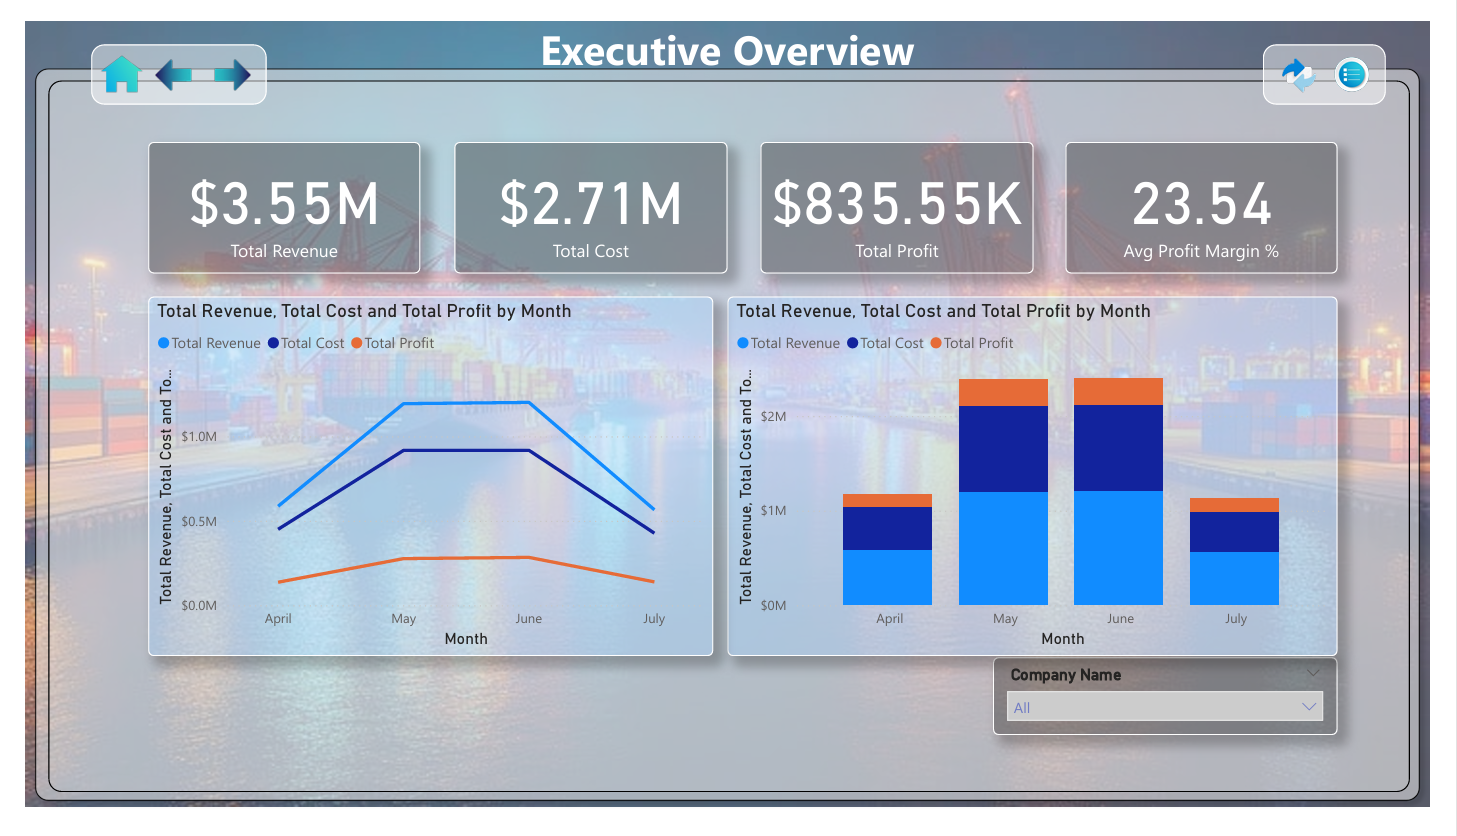

What the dashboard file says about the page in this screenshot:
{"tool":"powerbi","page":{"name":"Executive Overview","canvas":[1280,720],"ordinal":1},"visuals":[{"type":"shape","box":[0,34.2,1280.3,686],"z":0},{"type":"shape","box":[20.8,53.8,1241.2,649.3],"z":1000},{"type":"card","fields":{"Values":["Shipping_Data.Total Revenue"]},"box":[112.3,110.2,248.1,119.8],"z":2000},{"type":"card","fields":{"Values":["Shipping_Data.Total Cost"]},"box":[390.5,110.2,249.4,119.8],"z":3000},{"type":"card","fields":{"Values":["Shipping_Data.Total Profit"]},"box":[670.4,110.2,248.1,119.8],"z":4000},{"type":"card","fields":{"Values":["Shipping_Data.Avg Profit Margin %"]},"box":[948.1,110.2,248.1,119.8],"z":5000},{"type":"slicer","fields":{"Values":["Shipping_Data.Company Name"]},"box":[881.7,580.2,314.3,70.9],"z":6000},{"type":"columnChart","fields":{"Category":["Shipping_Data.Arrival Date.Variation.Date Hierarchy.Month"],"Y":["Shipping_Data.Total Revenue","Shipping_Data.Total Cost","Shipping_Data.Total Profit"]},"box":[639.5,251.3,556.4,327.7],"z":7000},{"type":"lineChart","fields":{"Category":["Shipping_Data.Arrival Date.Variation.Date Hierarchy.Month"],"Y":["Shipping_Data.Total Revenue","Shipping_Data.Total Cost","Shipping_Data.Total Profit"]},"box":[112.3,250.9,514.8,328.4],"z":8000},{"type":"shape","box":[1127.5,20.8,112.5,55],"z":9000},{"type":"image","box":[1127.5,22,67.3,53.8],"z":10000},{"type":"shape","box":[59.9,20.8,160.2,55],"z":11000},{"type":"image","box":[51.4,20.8,72.1,53.8],"z":12000},{"type":"image","box":[157.7,26.9,62.4,44],"z":13000},{"type":"image","box":[103.9,26.9,62.4,44],"z":14000},{"type":"image","box":[1184.2,26.7,48.3,49.2],"z":15000},{"type":"textbox","box":[407.2,0,464.7,74.6],"z":16000}]}

Visuals, with their boxes in screenshot pixels (x1, y1, x2, y2), scaled from the page's 1280x720 canvas onto the 1457x836 screenshot:
shape: [x1=0, y1=40, x2=1456, y2=835]
shape: [x1=24, y1=62, x2=1437, y2=816]
card - Shipping_Data.Total Revenue: [x1=128, y1=128, x2=410, y2=267]
card - Shipping_Data.Total Cost: [x1=444, y1=128, x2=728, y2=267]
card - Shipping_Data.Total Profit: [x1=763, y1=128, x2=1046, y2=267]
card - Shipping_Data.Avg Profit Margin %: [x1=1079, y1=128, x2=1362, y2=267]
slicer - Shipping_Data.Company Name: [x1=1004, y1=674, x2=1361, y2=756]
columnChart - Shipping_Data.Arrival Date.Variation.Date Hierarchy.Month x Shipping_Data.Total Revenue: [x1=728, y1=292, x2=1361, y2=672]
lineChart - Shipping_Data.Arrival Date.Variation.Date Hierarchy.Month x Shipping_Data.Total Revenue: [x1=128, y1=291, x2=714, y2=673]
shape: [x1=1283, y1=24, x2=1411, y2=88]
image: [x1=1283, y1=26, x2=1360, y2=88]
shape: [x1=68, y1=24, x2=251, y2=88]
image: [x1=59, y1=24, x2=141, y2=87]
image: [x1=180, y1=31, x2=251, y2=82]
image: [x1=118, y1=31, x2=189, y2=82]
image: [x1=1348, y1=31, x2=1403, y2=88]
textbox: [x1=464, y1=0, x2=992, y2=87]
